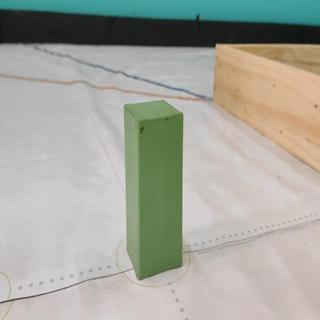greenbox: (124, 97, 186, 282)
